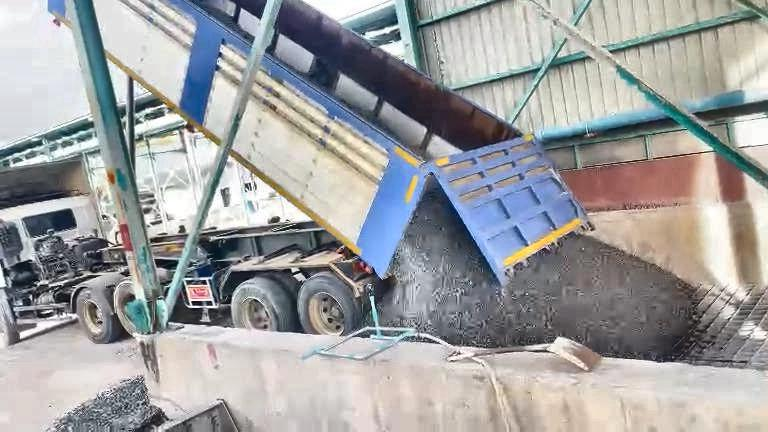gravel: (379, 184, 697, 360), (48, 376, 165, 430)
